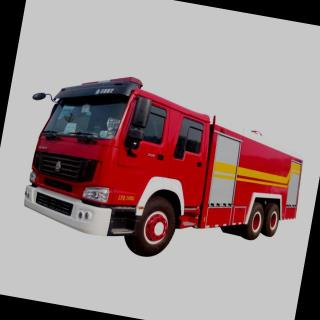Fire_truck: (8, 60, 315, 282)
